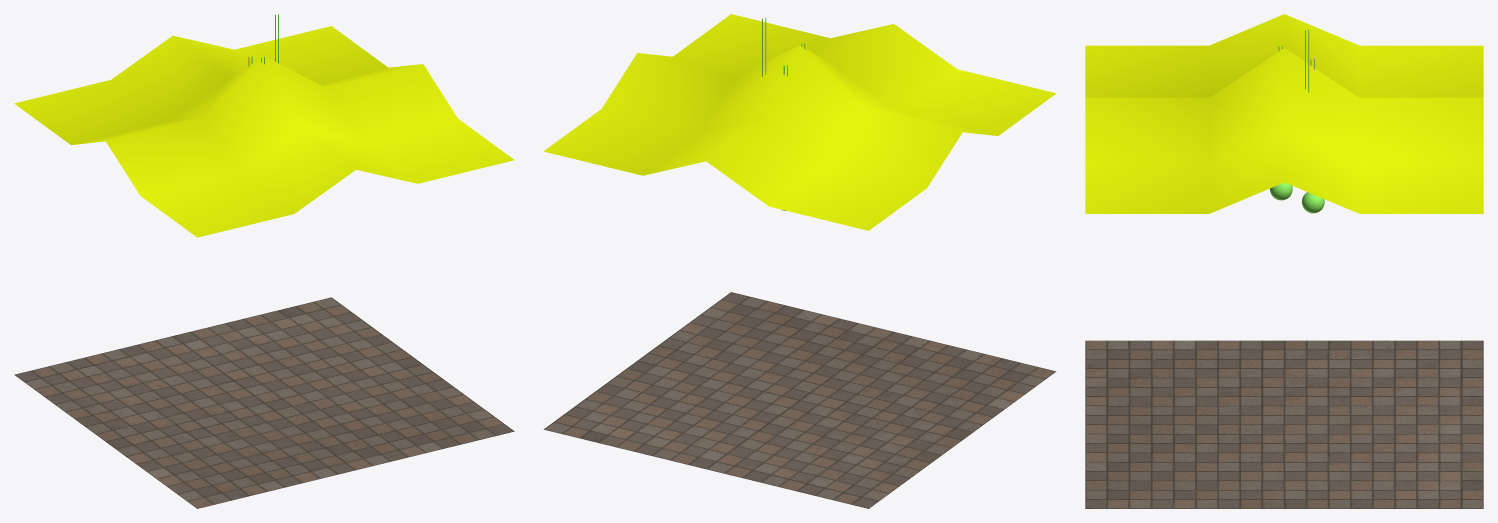
Rendered from HallBase.fbx.
3 renders of one model, left to right at view 1: azimuth 30°, elevation 25°; view 2: azimuth 150°, elevation 25°; view 3: azimuth 270°, elevation 25°, orthographic. The views are drawn at different scales.
Parts seen in each view (by area): view 1: Suelo, Techo; view 2: Suelo, Techo; view 3: Suelo, Techo.
Part boxes in pixels (x1,y1,x2,y2): Suelo: (14, 297, 514, 508); Techo: (14, 26, 514, 237); Suelo: (543, 292, 1056, 508); Techo: (543, 14, 1056, 230); Suelo: (1085, 340, 1483, 508); Techo: (1085, 14, 1483, 213).
Size of the model in its own units: 100 by 113 by 100.
